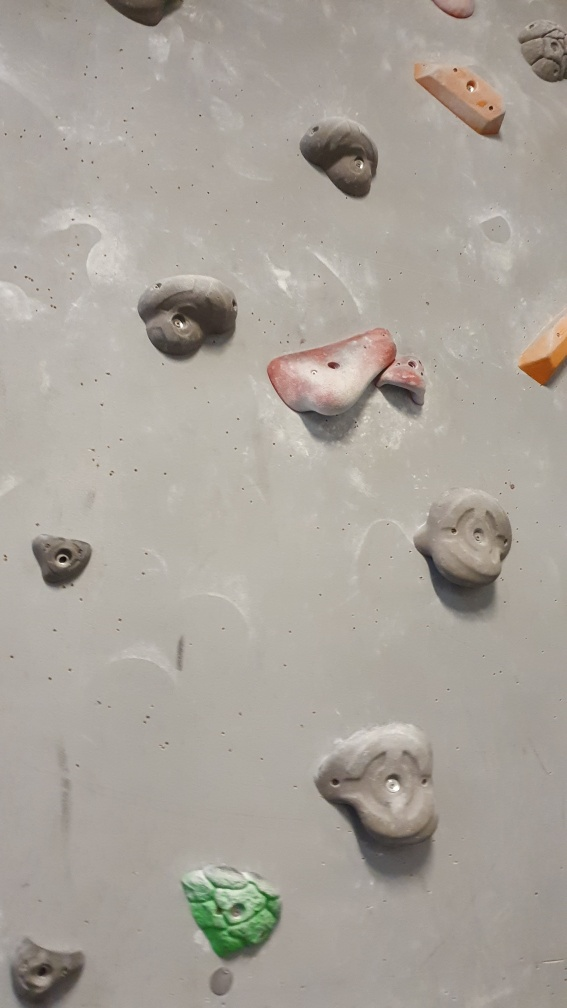Crimp: (26, 529, 96, 593)
Hand Start: (208, 967, 235, 997)
Jug: (314, 718, 439, 848), (413, 484, 515, 596), (134, 270, 239, 362), (297, 112, 385, 202)
Pinch: (411, 59, 509, 142), (515, 304, 567, 387)
